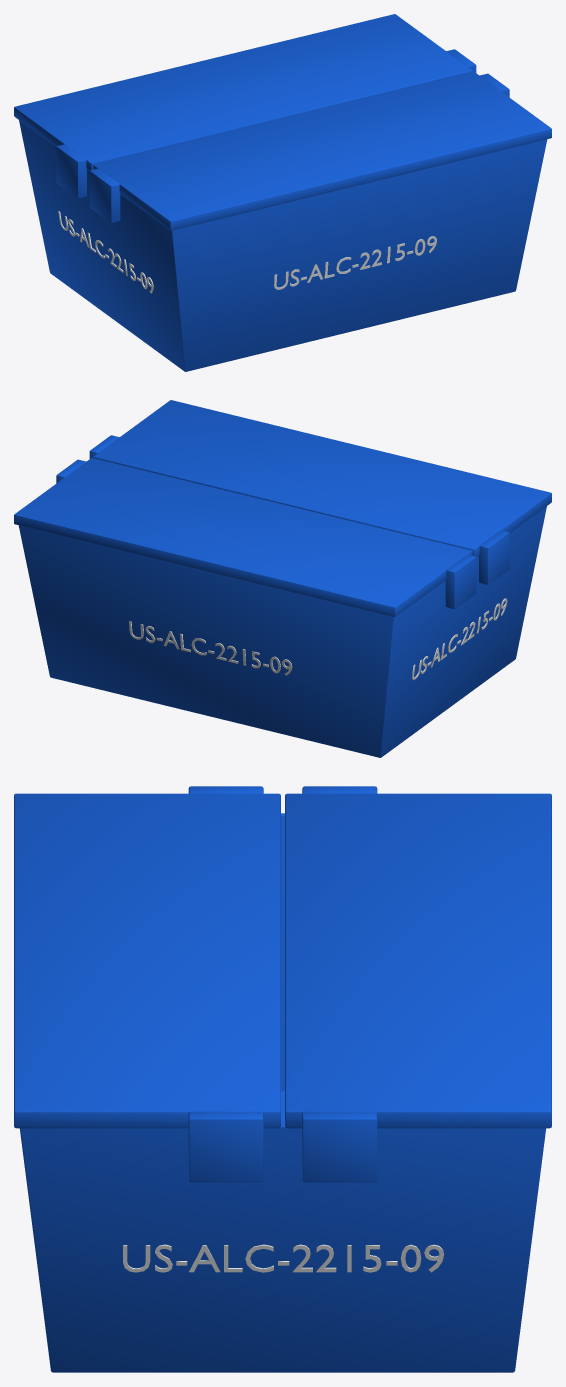
The model's file is US-ALC-2215-09.glb.
3 views of the same model, one above another, from view 1: azimuth 30°, elevation 25°; view 2: azimuth 150°, elevation 25°; view 3: azimuth 270°, elevation 25° (orthographic). The views are drawn at different scales.
Parts seen in each view (by area): view 1: us-alc-546x387x229; view 2: us-alc-546x387x229; view 3: us-alc-546x387x229.
Boxes of the visible parts, bbox=[...] form: us-alc-546x387x229: bbox=[14, 14, 551, 371]; us-alc-546x387x229: bbox=[14, 400, 551, 757]; us-alc-546x387x229: bbox=[14, 786, 551, 1372].
Size of the model in its own units: 0.579 by 0.229 by 0.395.
